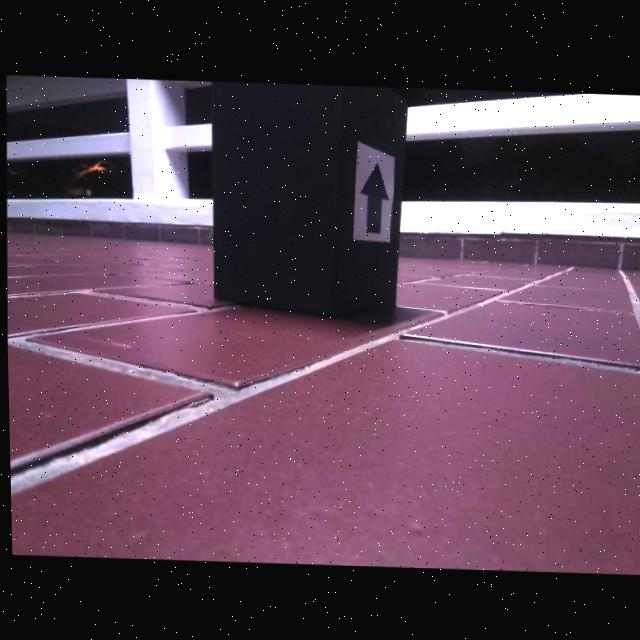UP: (358, 161, 388, 232)
